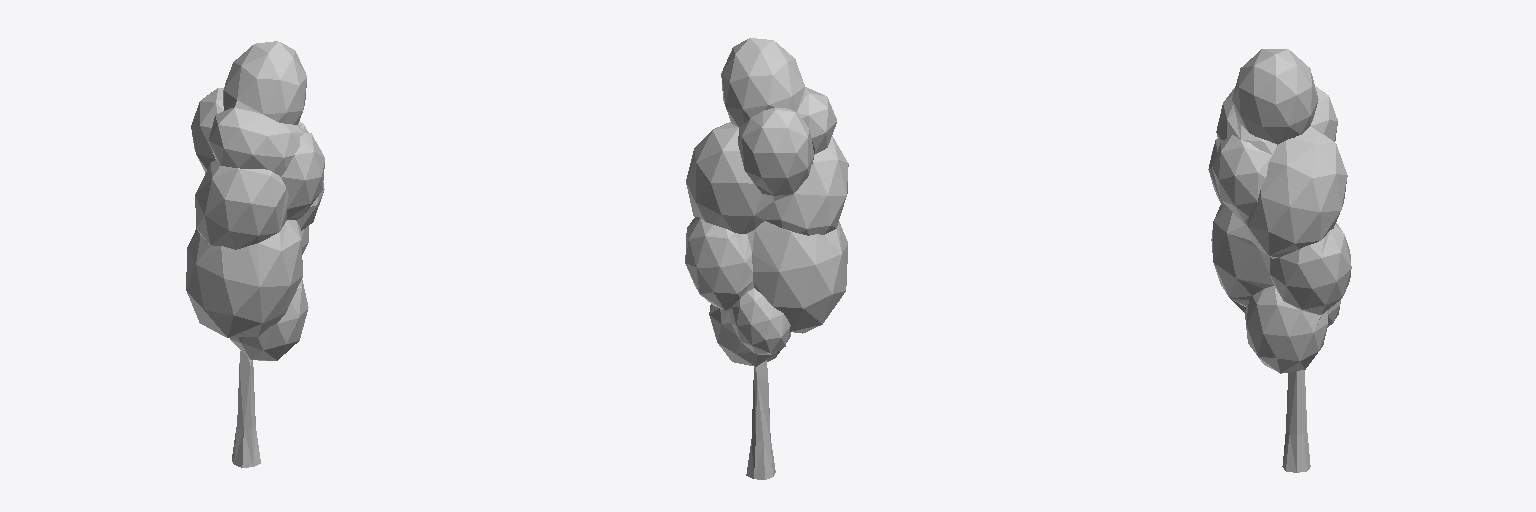
Rendered from tree7.obj.
3 views of the same model, side by side, from view 1: azimuth 30°, elevation 25°; view 2: azimuth 150°, elevation 25°; view 3: azimuth 270°, elevation 25° (orthographic).
Parts seen in each view (by area): view 1: _7_tree; view 2: _7_tree; view 3: _7_tree.
Part boxes in pixels (bbox=[...]): _7_tree: bbox=[186, 41, 324, 467]; _7_tree: bbox=[685, 38, 848, 479]; _7_tree: bbox=[1208, 49, 1351, 472].
Size of the model in its own units: 0.9204 by 2.78 by 0.8524.